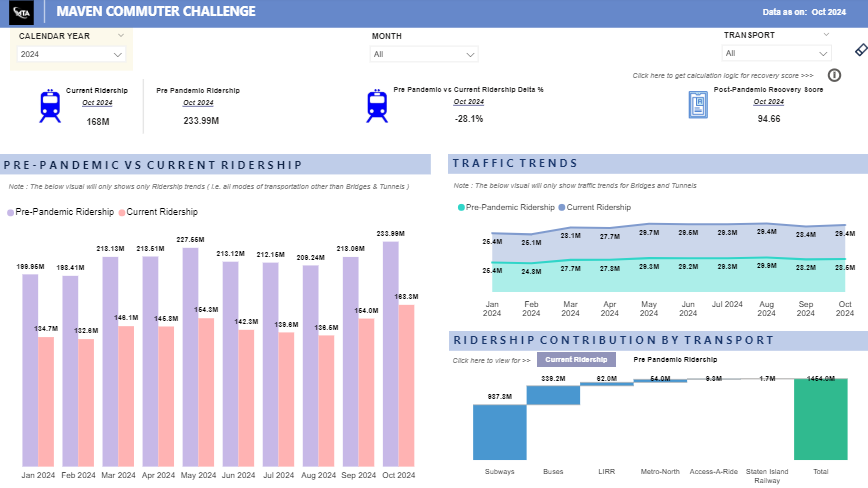

This screenshot's page, from the dashboard's own definition file:
{"tool":"powerbi","page":{"name":"Ridership & Traffic  Analysis","canvas":[1280,720],"ordinal":0},"visuals":[{"type":"shape","box":[1047.8,44.9,181.7,63.3],"z":0},{"type":"textbox","box":[567.5,120,245,47.6],"z":0,"group":"g3"},{"type":"textbox","box":[1006.8,120,245,47.6],"z":0,"group":"g4"},{"type":"group","id":"g1","title":"Group 3","box":[77.5,121.2,295.6,82.6],"z":0,"group":"g2"},{"type":"textbox","box":[215.9,121.2,155.4,46],"z":0,"group":"g1"},{"type":"slicer","fields":{"Values":["MTA_Daily_Ridership.Mode of Transportation"]},"box":[1050.1,43.7,180.6,64.4],"z":1000},{"type":"shape","box":[118.7,120,191.2,80],"z":1000,"group":"g2"},{"type":"textbox","box":[77.5,121.2,137.8,46],"z":1000,"group":"g1"},{"type":"shape","box":[536,44.9,180.6,63.3],"z":2000},{"type":"card","fields":{"Values":["MTA_Daily_Ridership.Total Ridership Card"]},"box":[83.3,163.5,128.3,40.3],"z":2000,"group":"g1"},{"type":"slicer","fields":{"Values":["MTA_Daily_Ridership.Month Name"]},"box":[535.1,44.9,179.4,64.4],"z":3000},{"type":"card","fields":{"Values":["MTA_Daily_Ridership.PP VS CR % Change"]},"box":[568.9,158.1,243.5,44.9],"z":3000,"group":"g3"},{"type":"card","fields":{"Values":["MTA_Daily_Ridership.Post-Pandemic Recovery Score"]},"box":[1008.2,158.1,243.5,44.9],"z":3000,"group":"g4"},{"type":"card","fields":{"Values":["MTA_Daily_Ridership.Total Ridership PP Card"]},"box":[223.1,162.3,150,41.2],"z":3000,"group":"g1"},{"type":"shape","box":[19,43.9,180,64.4],"z":4000},{"type":"slicer","fields":{"Values":["MTA_Daily_Ridership.Year"]},"box":[19.6,46,180,65.6],"z":5000},{"type":"actionButton","box":[0,0,1281.2,45],"z":6000},{"type":"textbox","box":[82,2.9,699.5,38],"z":7000},{"type":"shape","box":[60,2.9,19,35.1],"z":8000},{"type":"shape","box":[0,230,634.9,29.9],"z":9000},{"type":"textbox","box":[0,229.8,504.9,33.7],"z":10000},{"type":"clusteredColumnChart","fields":{"Y":["Sum(MTA_Daily_Ridership.Pre-Pandemic Ridership Value)","Sum(MTA_Daily_Ridership.Ridership Value)"],"Category":["MTA_Daily_Ridership.Month Year"]},"box":[8.8,295,631.2,420],"z":11000},{"type":"shape","box":[660.2,230,618.8,29],"z":12000},{"type":"textbox","box":[661.8,226.5,519.4,35.6],"z":13000},{"type":"actionButton","box":[1251.8,48,28.2,58],"z":14000},{"type":"stackedAreaChart","fields":{"Y":["Sum(MTA_Daily_Ridership.Pre-Pandemic Ridership Value)","Sum(MTA_Daily_Ridership.Ridership Value)"],"Category":["MTA_Daily_Ridership.Month Year"]},"box":[668.8,288.3,604.4,190.2],"z":15000},{"type":"group","id":"g2","title":"Group 4","box":[77.5,120,295.6,83.8],"z":16000},{"type":"card","fields":{"Values":["MTA_Daily_Ridership.As_on_date"]},"box":[1093.2,10.2,177.1,27.8],"z":17000},{"type":"textbox","box":[662.5,260,511.2,28.8],"z":18000},{"type":"textbox","box":[11.2,261.2,611.2,27.5],"z":19000},{"type":"image","box":[48.8,128.8,58.8,60],"z":20000},{"type":"shape","box":[661.2,488.8,618.8,29],"z":21000},{"type":"textbox","box":[662.5,486.2,520,36.2],"z":22000},{"type":"waterfallChart","fields":{"Y":["Sum(MTA_Daily_Ridership.Ridership Value)"],"Category":["MTA_Daily_Ridership.Mode of Transportation"]},"box":[661.5,545.9,614.6,169.8],"z":23000},{"type":"textbox","box":[661.5,516.6,160,27.8],"z":24000},{"type":"group","id":"g3","title":"Group 4","box":[567.5,120,245,83],"z":25000},{"type":"image","box":[526.8,128.8,58.5,60],"z":26000},{"type":"group","id":"g4","title":"Group 4","box":[1006.8,120,244.4,83.4],"z":27000},{"type":"image","box":[996.6,127.3,58.5,60],"z":28000},{"type":"actionButton","box":[1211.7,99.5,27.8,30.7],"z":29000},{"type":"textbox","box":[924.9,99.5,285.4,32.2],"z":30000},{"type":"actionButton","box":[790.2,519.5,115.6,22],"z":31000},{"type":"actionButton","box":[917.6,519.5,150.7,22],"z":32000},{"type":"image","box":[8.8,0,54.1,46],"z":33000}]}

Visuals, with their boxes in screenshot pixels (x1, y1, x2, y2), scaled from the page's 1280x720 canvas onto the 868x488 screenshot:
shape: crop(711, 30, 834, 73)
textbox: crop(385, 81, 551, 114)
textbox: crop(683, 81, 849, 114)
"Group 3" group: crop(53, 82, 253, 138)
textbox: crop(146, 82, 252, 113)
slicer - MTA_Daily_Ridership.Mode of Transportation: crop(712, 30, 835, 73)
shape: crop(80, 81, 210, 136)
textbox: crop(53, 82, 146, 113)
shape: crop(363, 30, 486, 73)
card - MTA_Daily_Ridership.Total Ridership Card: crop(56, 111, 143, 138)
slicer - MTA_Daily_Ridership.Month Name: crop(363, 30, 485, 74)
card - MTA_Daily_Ridership.PP VS CR % Change: crop(386, 107, 551, 138)
card - MTA_Daily_Ridership.Post-Pandemic Recovery Score: crop(684, 107, 849, 138)
card - MTA_Daily_Ridership.Total Ridership PP Card: crop(151, 110, 253, 138)
shape: crop(13, 30, 135, 73)
slicer - MTA_Daily_Ridership.Year: crop(13, 31, 135, 76)
actionButton: crop(0, 0, 867, 30)
textbox: crop(56, 2, 530, 28)
shape: crop(41, 2, 54, 26)
shape: crop(0, 156, 431, 176)
textbox: crop(0, 156, 342, 179)
clusteredColumnChart - Sum(MTA_Daily_Ridership.Pre-Pandemic Ridership Value) x Sum(MTA_Daily_Ridership.Ridership Value): crop(6, 200, 434, 485)
shape: crop(448, 156, 867, 176)
textbox: crop(449, 154, 801, 178)
actionButton: crop(849, 33, 867, 72)
stackedAreaChart - Sum(MTA_Daily_Ridership.Pre-Pandemic Ridership Value) x Sum(MTA_Daily_Ridership.Ridership Value): crop(454, 195, 863, 324)
"Group 4" group: crop(53, 81, 253, 138)
card - MTA_Daily_Ridership.As_on_date: crop(741, 7, 861, 26)
textbox: crop(449, 176, 796, 196)
textbox: crop(8, 177, 422, 196)
image: crop(33, 87, 73, 128)
shape: crop(448, 331, 867, 351)
textbox: crop(449, 330, 802, 354)
waterfallChart - Sum(MTA_Daily_Ridership.Ridership Value) x MTA_Daily_Ridership.Mode of Transportation: crop(449, 370, 865, 485)
textbox: crop(449, 350, 557, 369)
"Group 4" group: crop(385, 81, 551, 138)
image: crop(357, 87, 397, 128)
"Group 4" group: crop(683, 81, 848, 138)
image: crop(676, 86, 715, 127)
actionButton: crop(822, 67, 841, 88)
textbox: crop(627, 67, 821, 89)
actionButton: crop(536, 352, 614, 367)
actionButton: crop(622, 352, 724, 367)
image: crop(6, 0, 43, 31)
